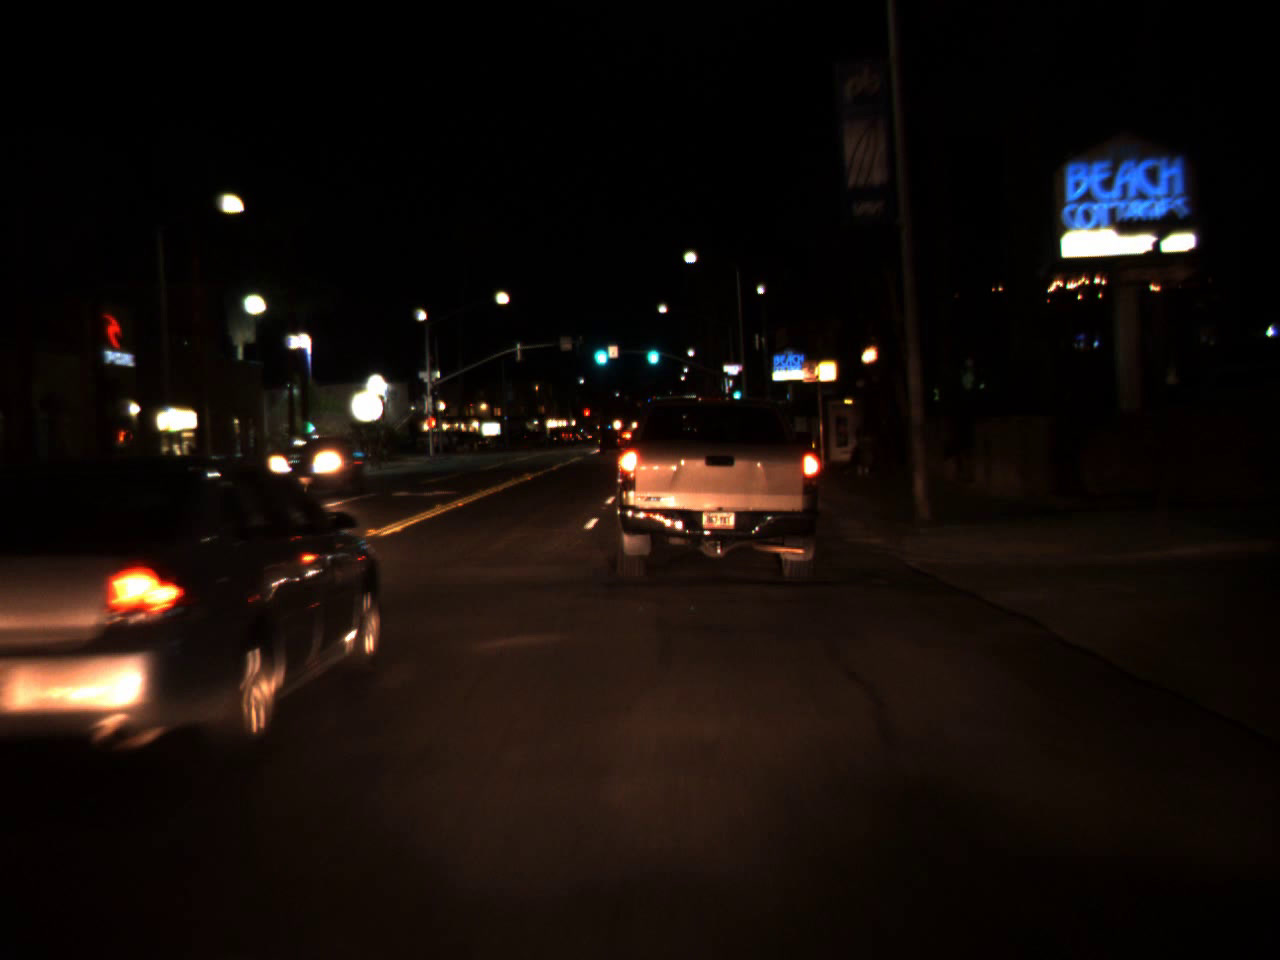go: (589, 331, 610, 370), (643, 333, 661, 369), (731, 384, 741, 399)
